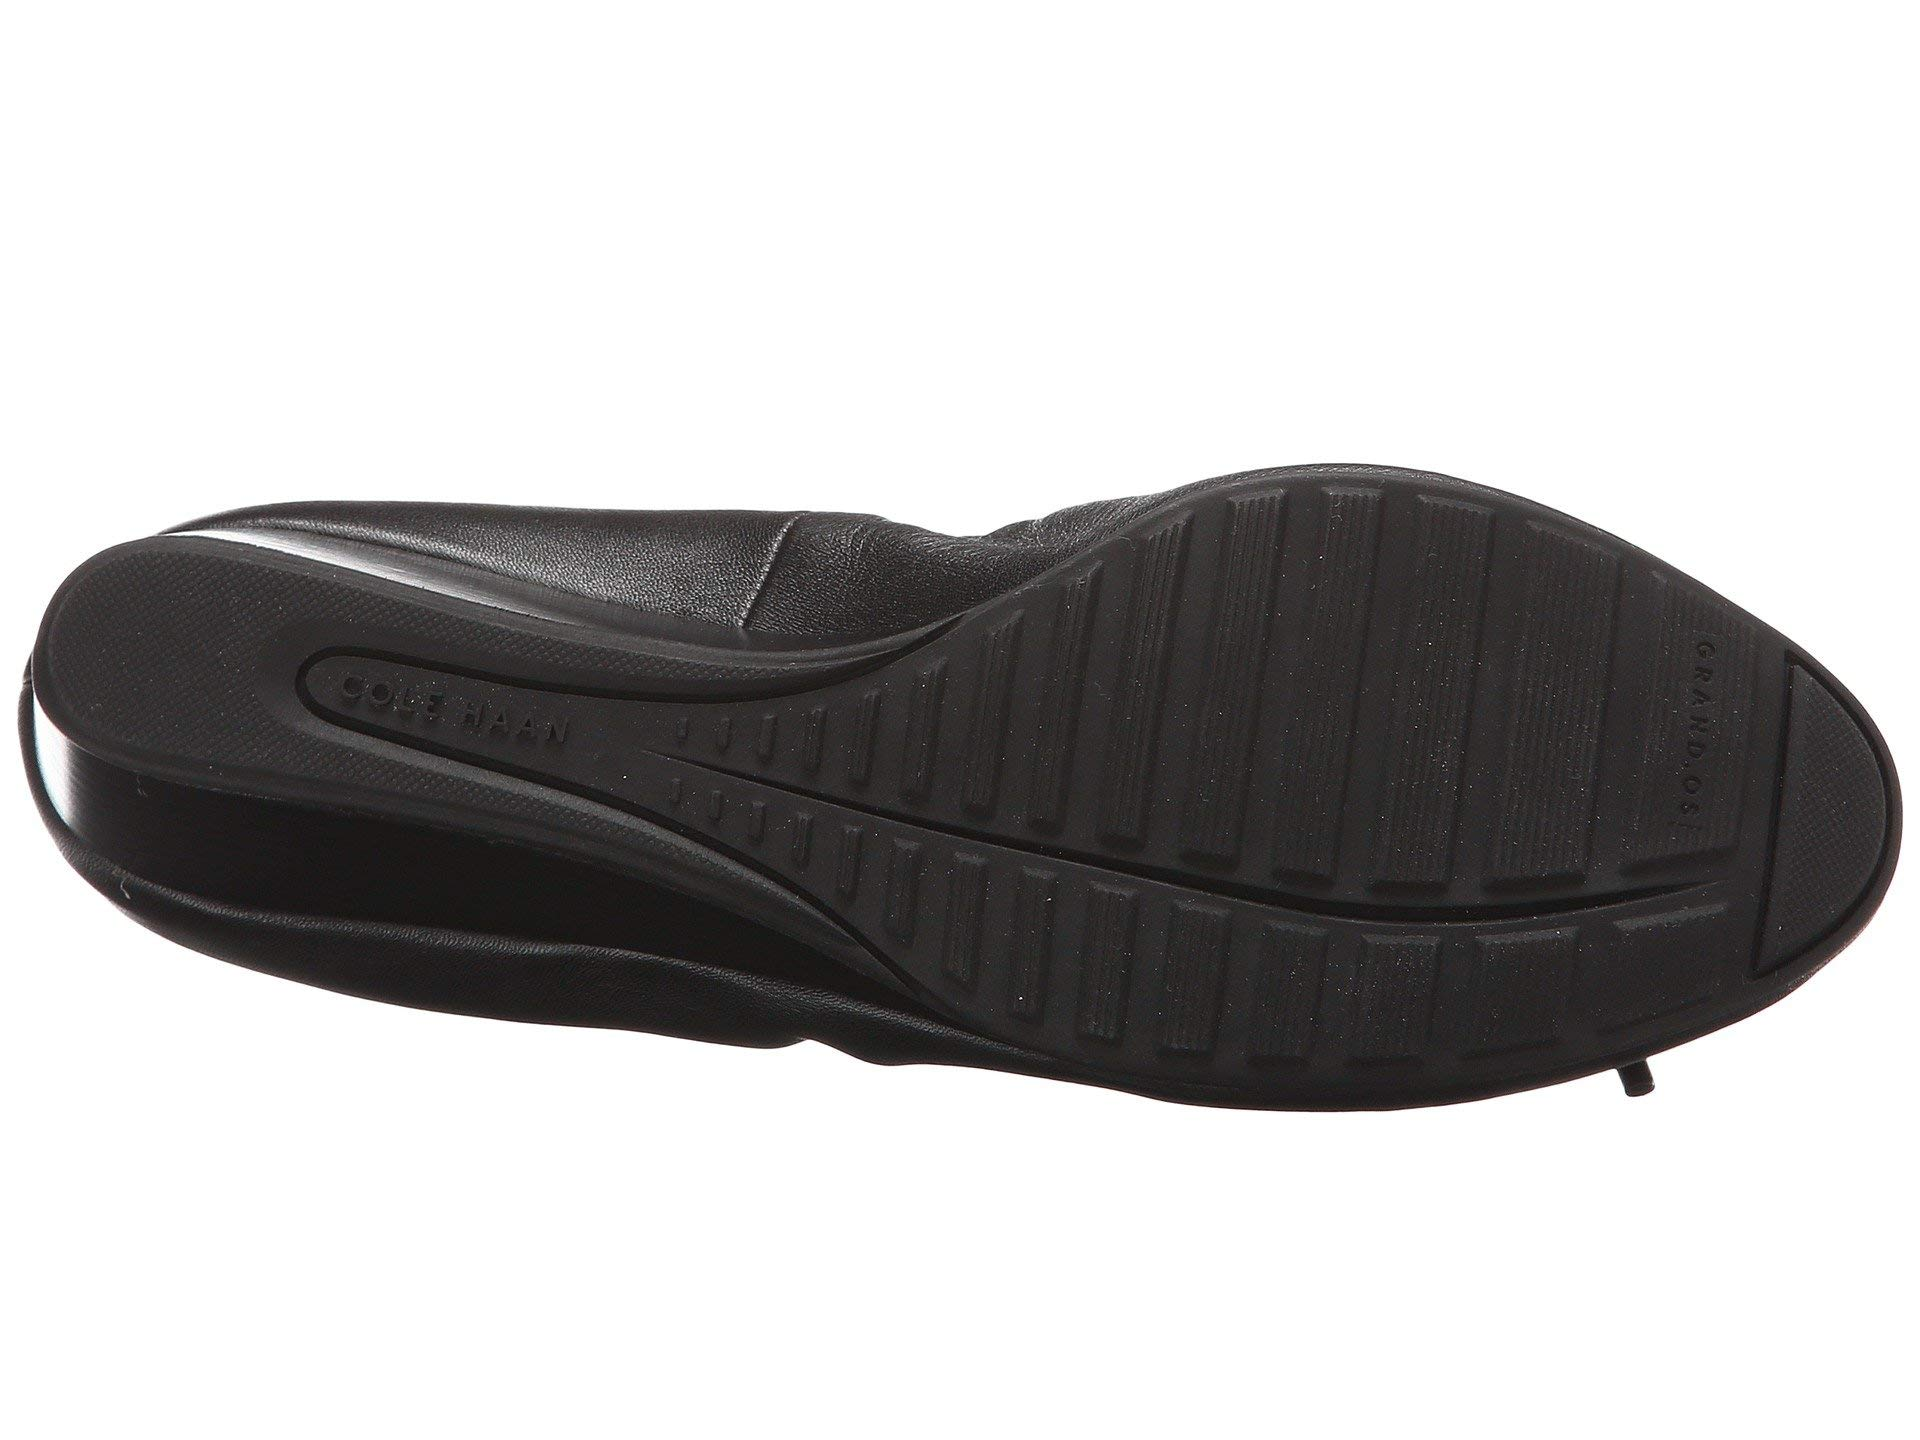circle: (304, 641, 614, 761), (1652, 596, 1733, 815)
line: (1219, 476, 1599, 1057), (1652, 596, 1733, 815)
quad: (1219, 476, 1599, 1057)
text: (304, 641, 614, 761), (1652, 596, 1733, 815)
